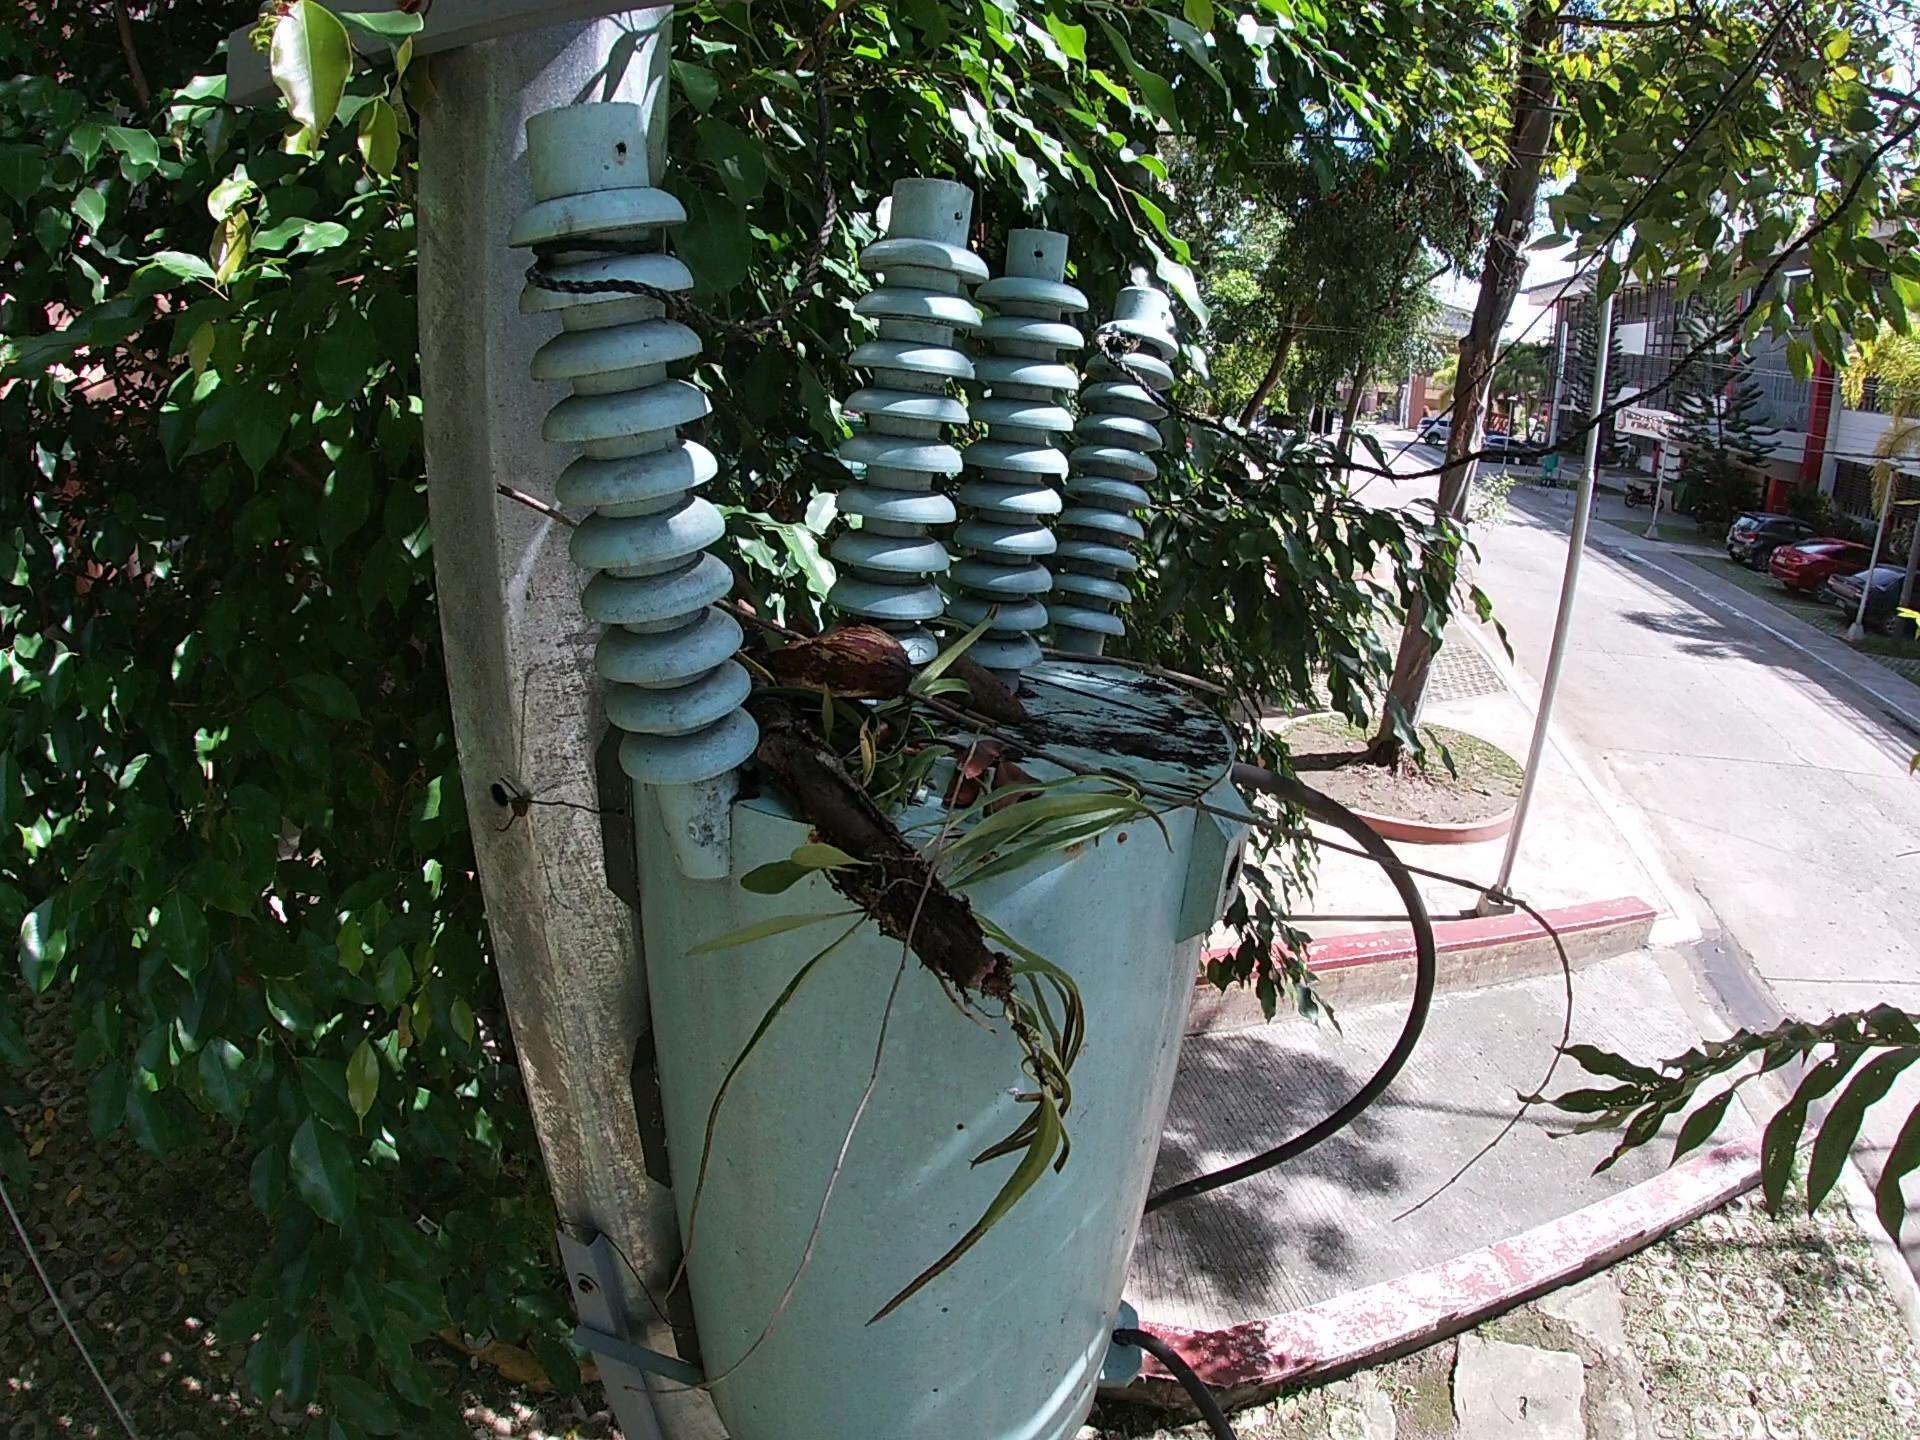branch with leaves: (683, 601, 1184, 1169)
mahogany fruit: (732, 629, 865, 811)
tree branch: (727, 617, 1798, 1100), (1057, 644, 1232, 720)
